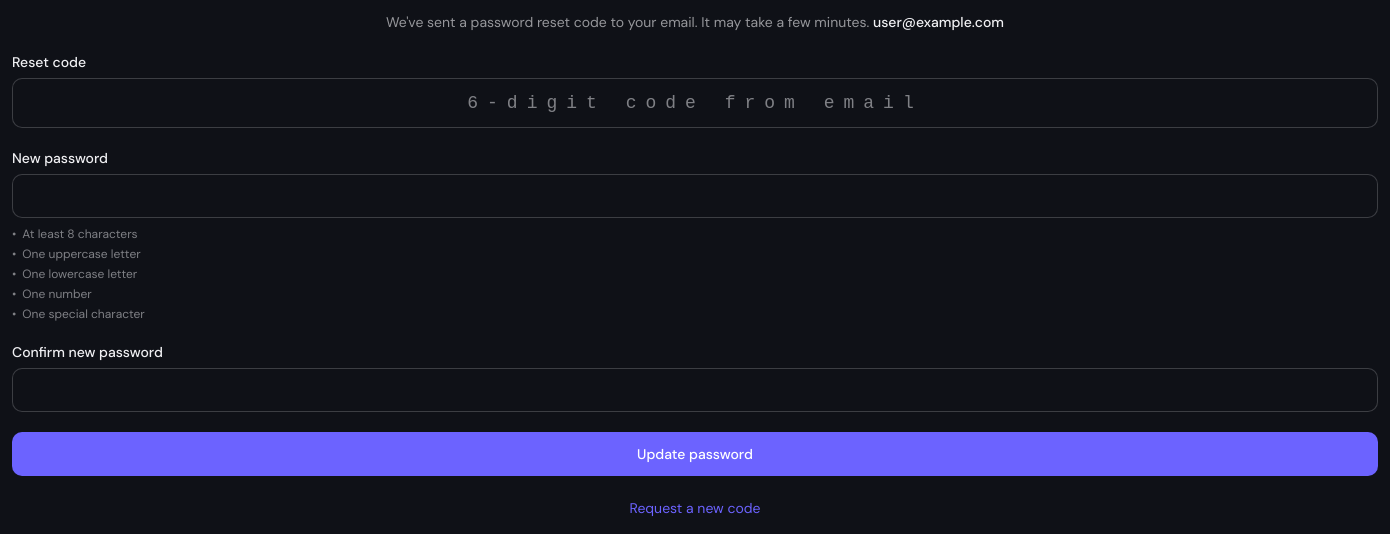
ResetPasswordForm › disables button during submission
The image size is (1390, 534).
Type "123456" into the field labelled "Reset code". click: (695, 103)
box: [12,78,1378,128]
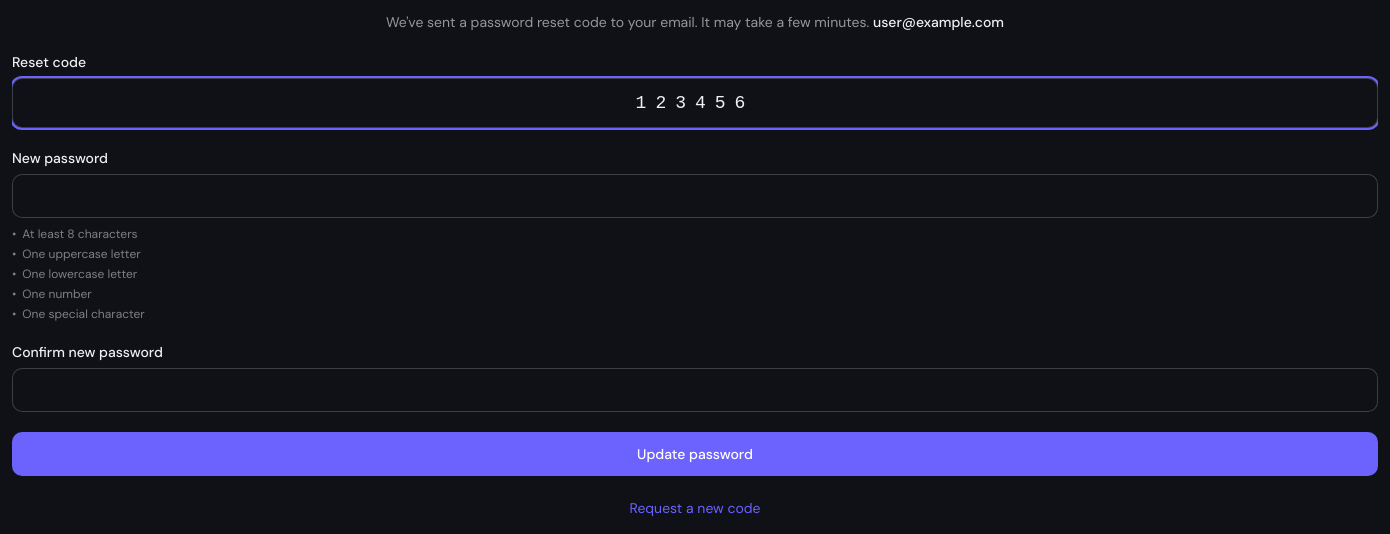
Type "BrandNewPass1!" into the password field labelled "New password". click: (695, 196)
box: [12,174,1378,218]
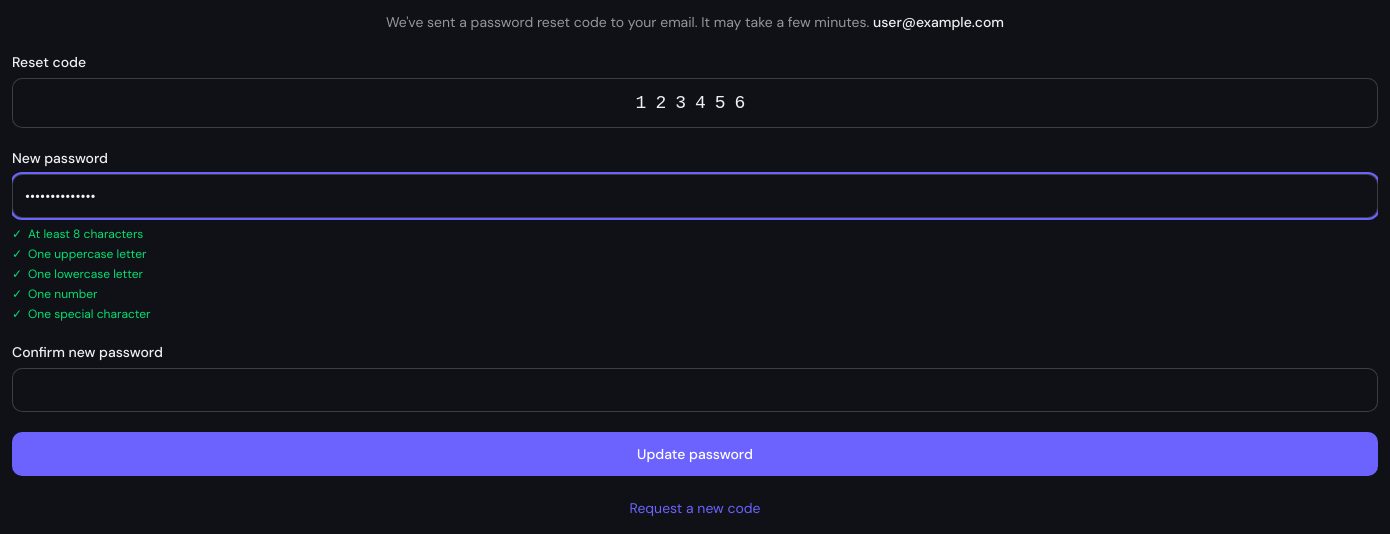
Type "BrandNewPass1!" into the password field labelled "Confirm new password". click: (695, 390)
box: [12,368,1378,412]
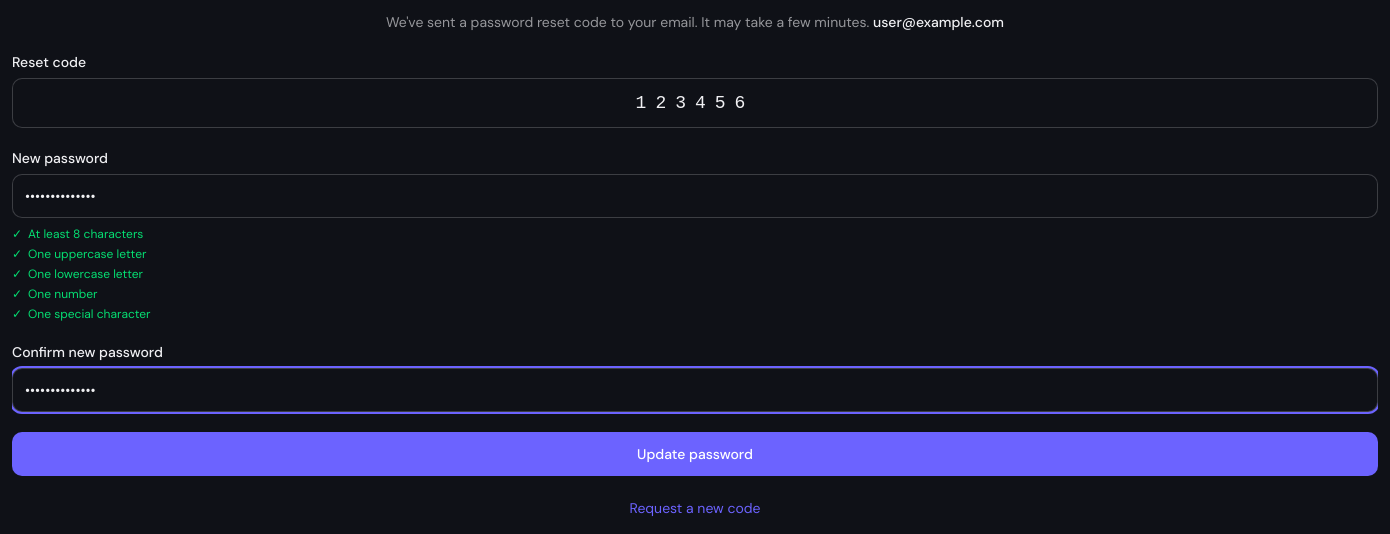
Click the button "Update password". click: (695, 454)
box: [12,432,1378,476]
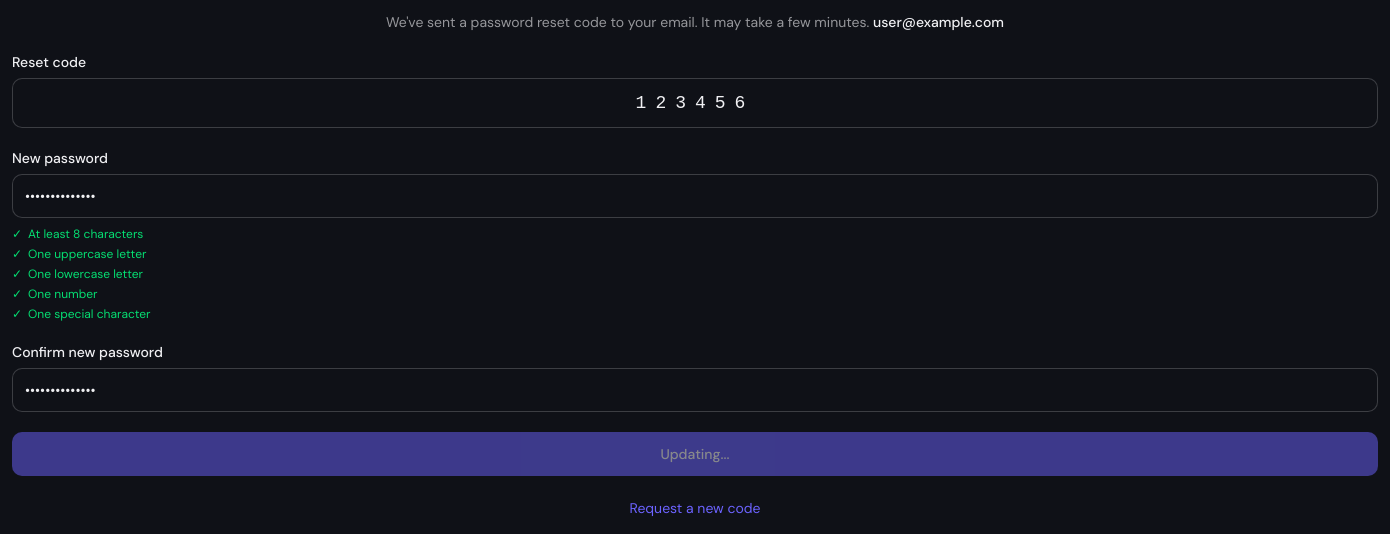
expect the button "Updating..." is disabled: met, box [12,432,1378,476]
